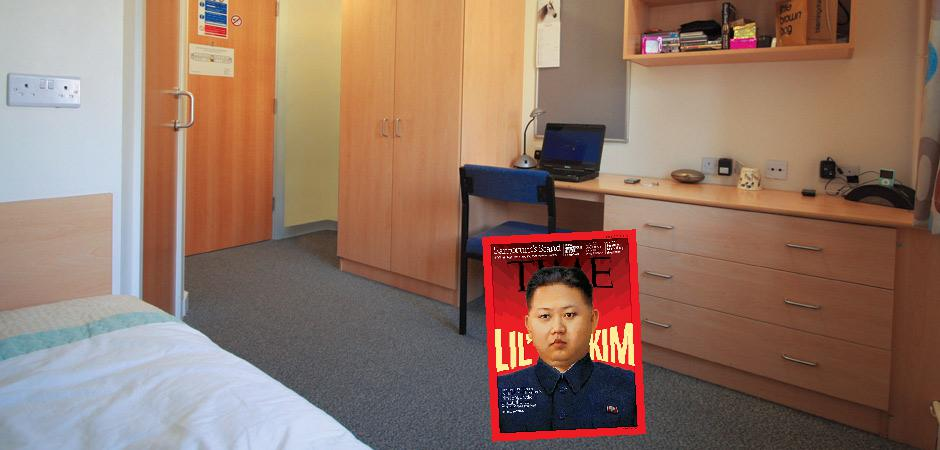times: (479, 224, 646, 442)
